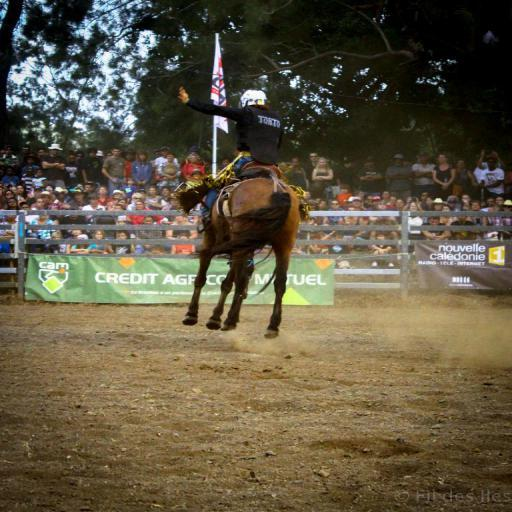Horse: (181, 177, 300, 339)
